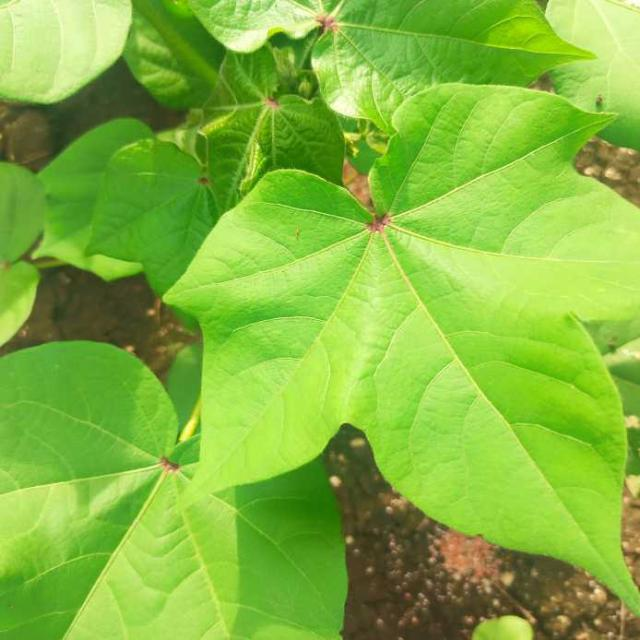Healthy Leaf: (16, 14, 556, 640)
